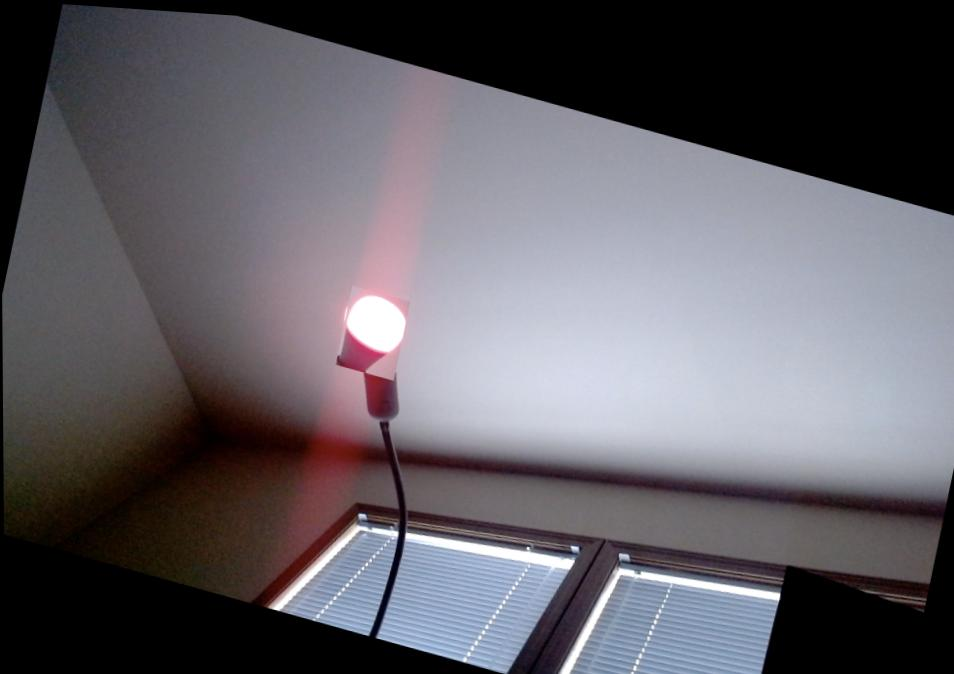TubeLight: (334, 278, 409, 374)
